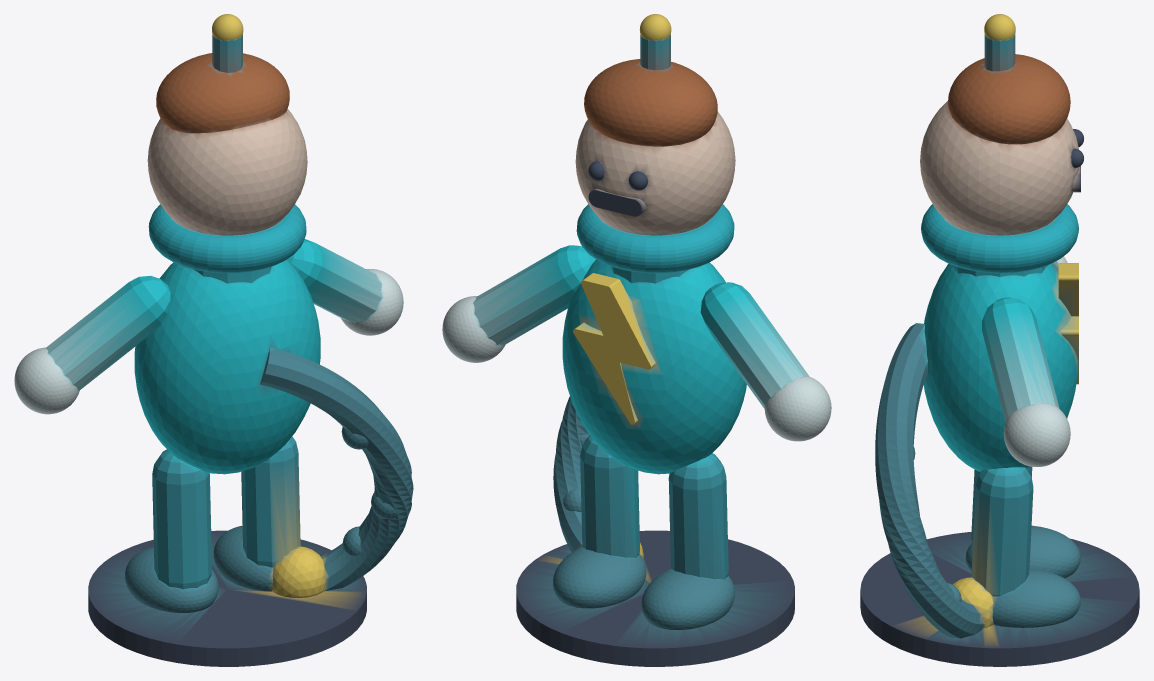
Rendered from neuronaut-axon-preview.glb.
The picture shows the model from 3 angles, left to right: view 1: azimuth 30°, elevation 25°; view 2: azimuth 150°, elevation 25°; view 3: azimuth 270°, elevation 25°; orthographic projection.
Visible parts, largest first — view 1: geometry_0; view 2: geometry_0; view 3: geometry_0.
Boxes of the visible parts, left/top/right/bottom form: geometry_0: left=14, top=14, right=413, bottom=666; geometry_0: left=442, top=14, right=831, bottom=666; geometry_0: left=860, top=14, right=1139, bottom=666.
Size of the model in its own units: 0.0341 by 0.0508 by 0.0217.
